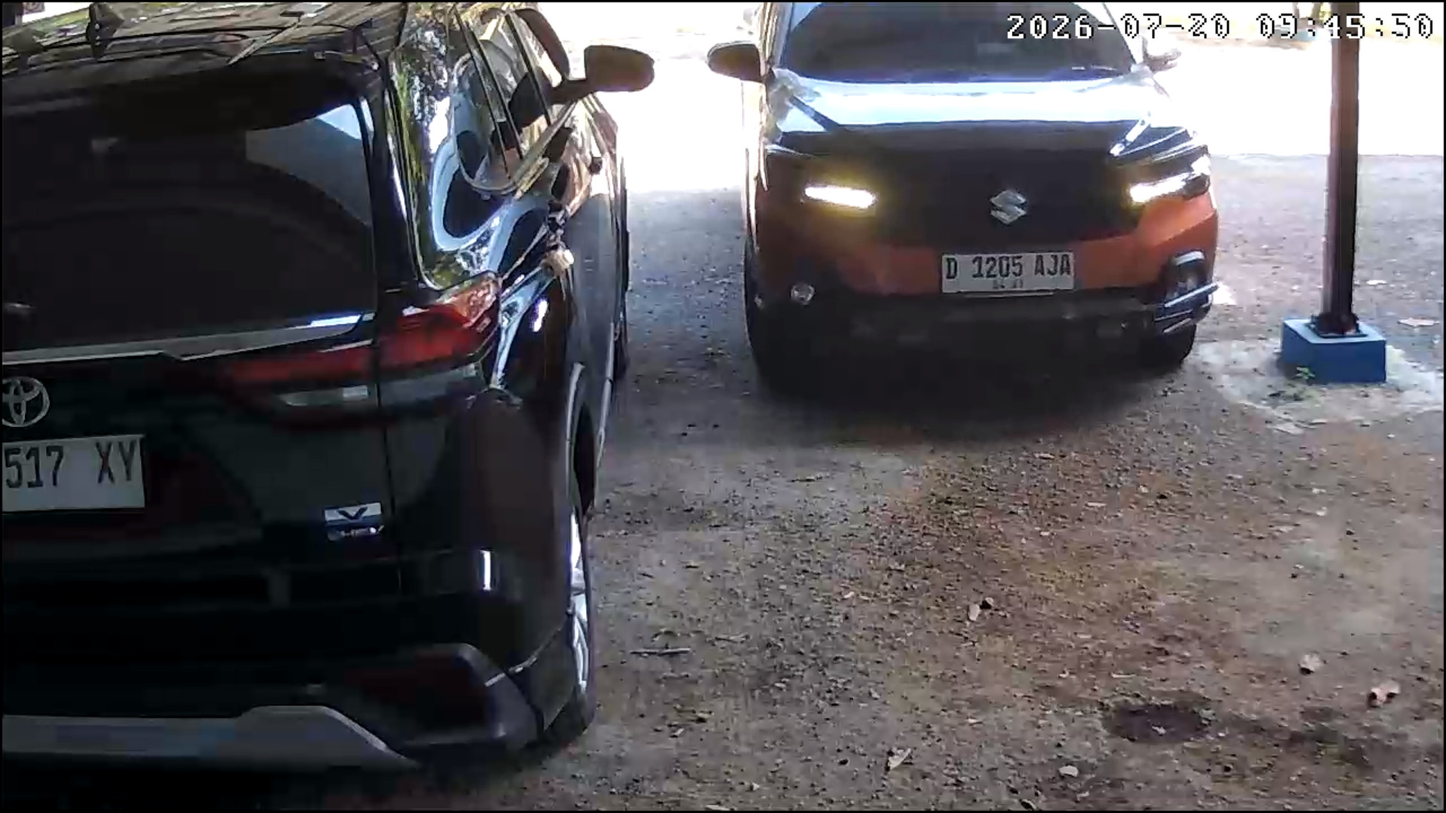plat nomor: (940, 251, 1077, 296)
